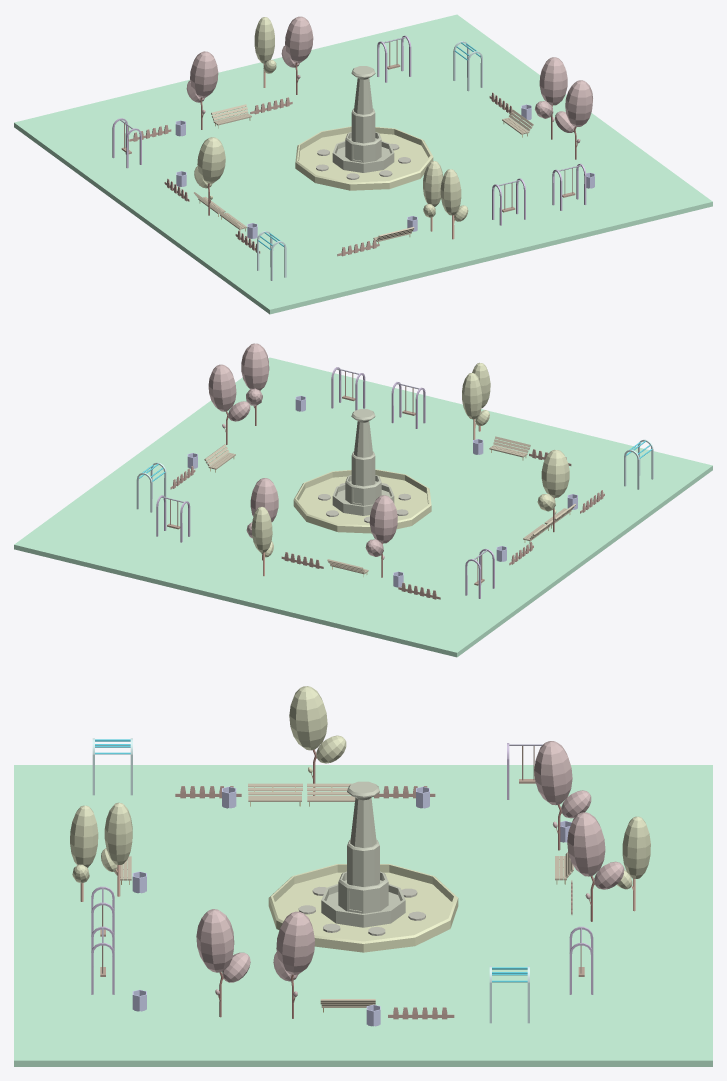
Rendered from parkEnv.fbx.
3 views of the same model, one above another, from view 1: azimuth 30°, elevation 25°; view 2: azimuth 150°, elevation 25°; view 3: azimuth 270°, elevation 25° (orthographic). The views are drawn at different scales.
Parts seen in each view (by area): view 1: land, leaf5 (×5), foutainBase, foutain, leaf2 (×3); view 2: land, leaf5 (×5), foutainBase, foutain, leaf2 (×2); view 3: land, leaf5 (×5), foutainBase, foutain, leaf2 (×3), leaf4 (×3).
Boxes of the visible parts, left/top/right/bottom form: land: left=14, top=14, right=712, bottom=314; leaf5 (×5): left=190, top=16, right=592, bottom=183; foutainBase: left=295, top=126, right=433, bottom=190; foutain: left=332, top=66, right=394, bottom=172; leaf2 (×3): left=254, top=17, right=461, bottom=215; land: left=14, top=357, right=712, bottom=657; leaf5 (×5): left=208, top=343, right=569, bottom=543; foutainBase: left=293, top=469, right=431, bottom=533; foutain: left=332, top=409, right=394, bottom=515; leaf2 (×2): left=251, top=373, right=482, bottom=552; land: left=14, top=765, right=712, bottom=1066; leaf5 (×5): left=196, top=686, right=605, bottom=974; foutainBase: left=268, top=864, right=458, bottom=952; foutain: left=321, top=781, right=405, bottom=927; leaf2 (×3): left=70, top=802, right=650, bottom=878; leaf4 (×3): left=316, top=735, right=624, bottom=889.
Size of the model in its own units: 37.94 by 7.9 by 37.94.
